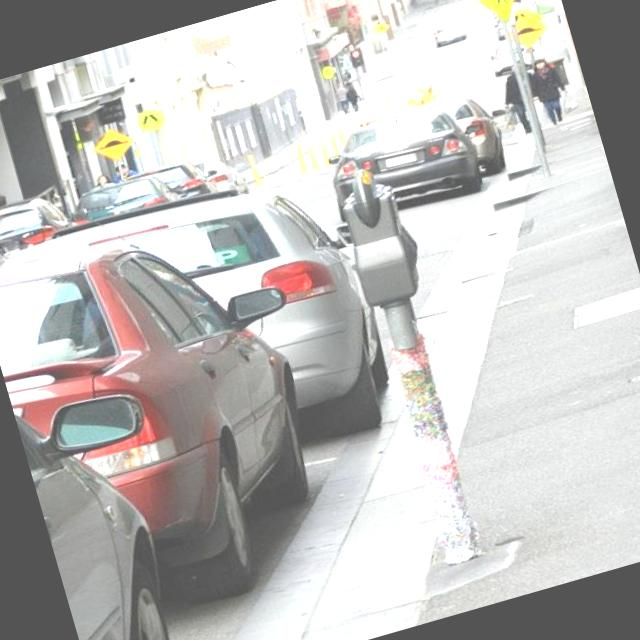Vehicle: (0, 187, 356, 636), (0, 146, 410, 519), (9, 362, 220, 640), (318, 98, 490, 230), (371, 80, 524, 203), (66, 168, 178, 228), (124, 153, 219, 215), (0, 187, 69, 253), (192, 148, 250, 198), (431, 19, 469, 48), (0, 216, 11, 274)
